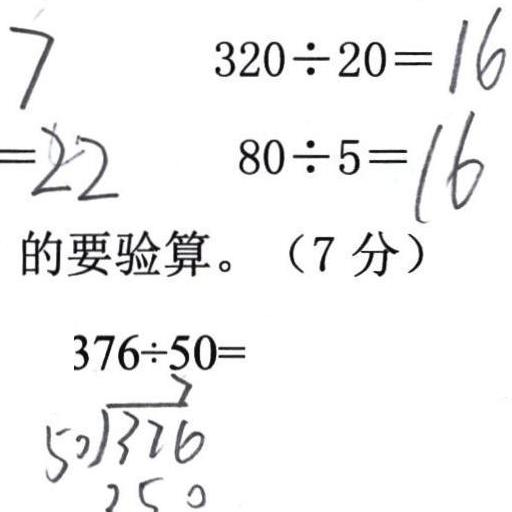ans: (407, 107, 486, 220), (26, 118, 117, 203), (442, 4, 507, 94), (3, 16, 56, 108)
